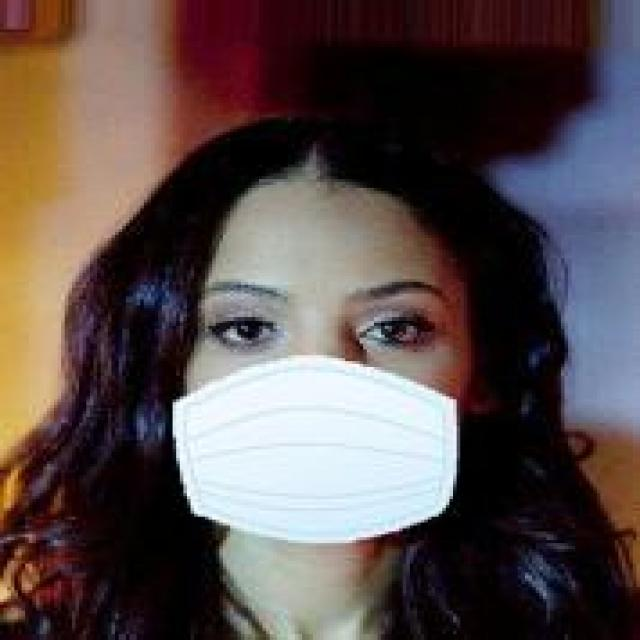mask: (154, 111, 510, 566)
